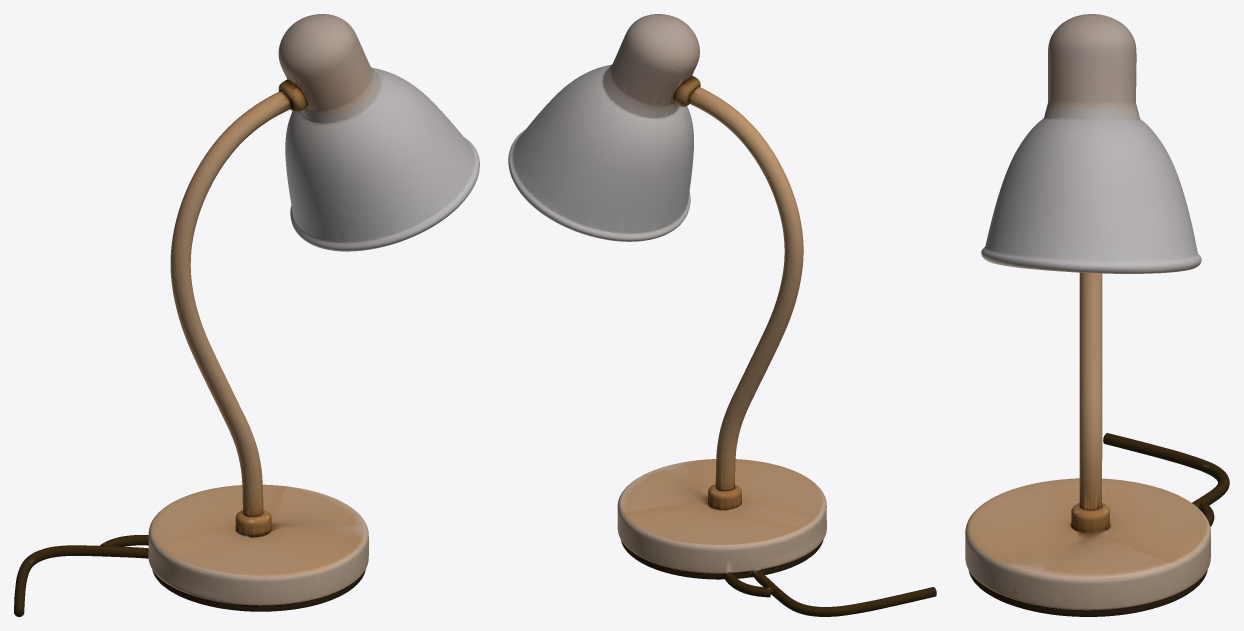
File: lamp.glb
3 renders of one model, left to right at view 1: azimuth 30°, elevation 25°; view 2: azimuth 150°, elevation 25°; view 3: azimuth 270°, elevation 25°, orthographic. The views are drawn at different scales.
Visible parts, largest first — view 1: material; view 2: material; view 3: material.
Boxes of the visible parts, <box> form: material: <box>14,14,479,616</box>; material: <box>508,14,936,616</box>; material: <box>965,14,1229,616</box>.
Size of the model in its own units: 0.796 by 0.9071 by 0.3729.
Materials: 1 (1 with a texture image).
